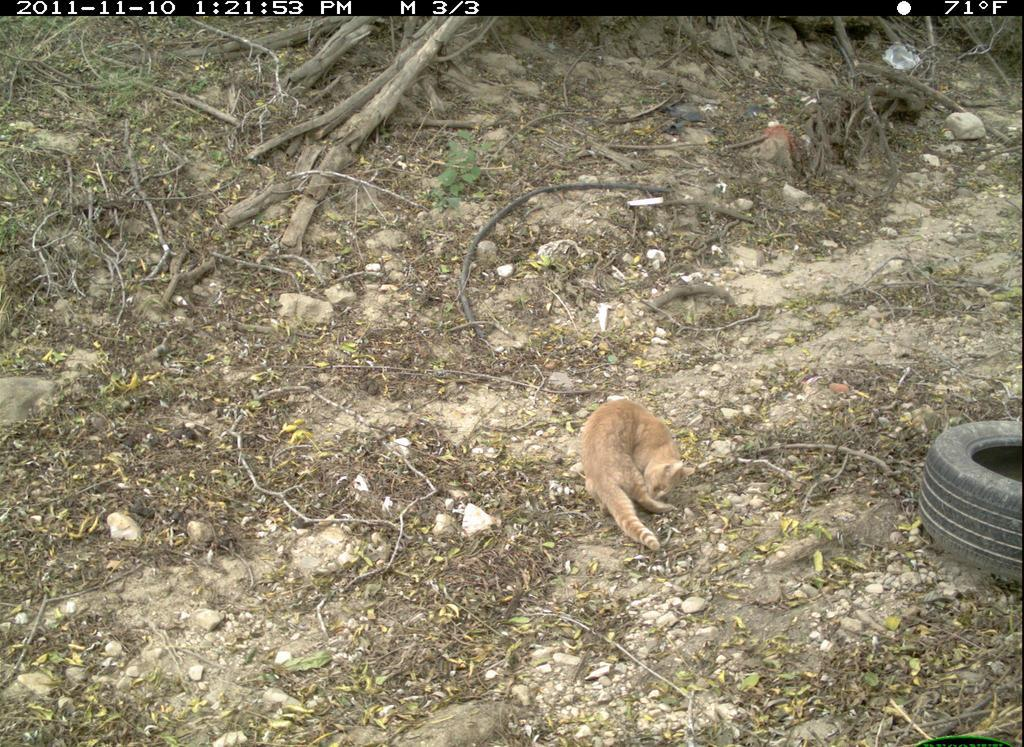cat: (573, 387, 701, 553)
